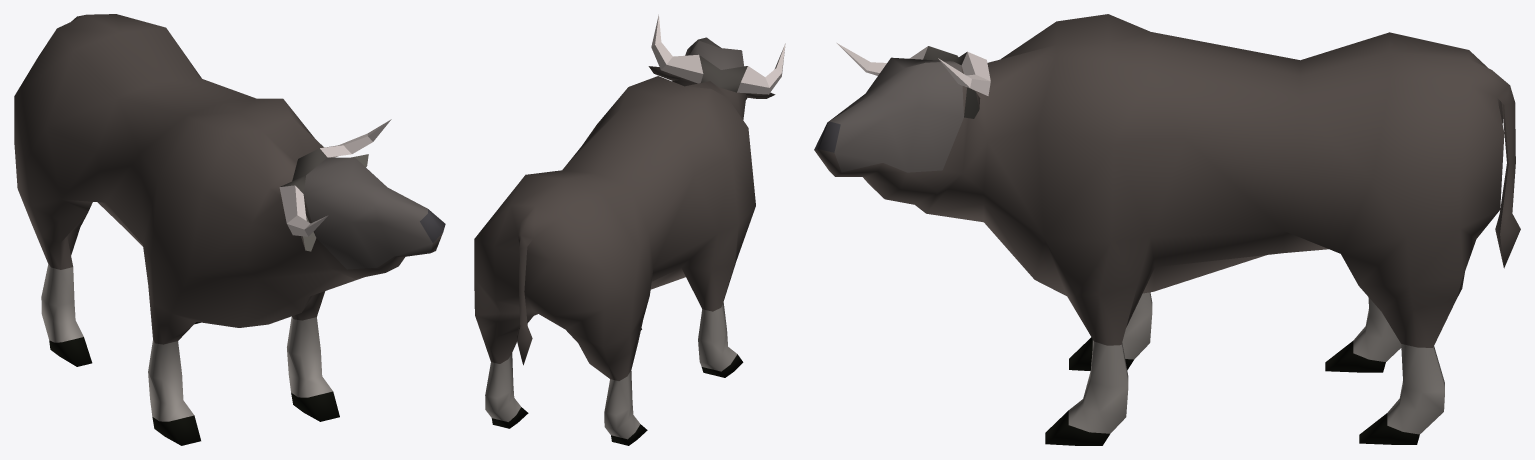
The model's file is buffalo.glb.
The picture shows the model from 3 angles, left to right: view 1: azimuth 30°, elevation 25°; view 2: azimuth 150°, elevation 25°; view 3: azimuth 270°, elevation 25°; orthographic projection. The views are drawn at different scales.
Parts seen in each view (by area): view 1: Bull-ver3; view 2: Bull-ver3; view 3: Bull-ver3.
Boxes of the visible parts, bbox=[...] form: Bull-ver3: bbox=[14, 14, 445, 445]; Bull-ver3: bbox=[474, 14, 785, 445]; Bull-ver3: bbox=[814, 14, 1520, 445].
Size of the model in its own units: 0.7891 by 1.4 by 2.29.
1 material, 1 textured.
